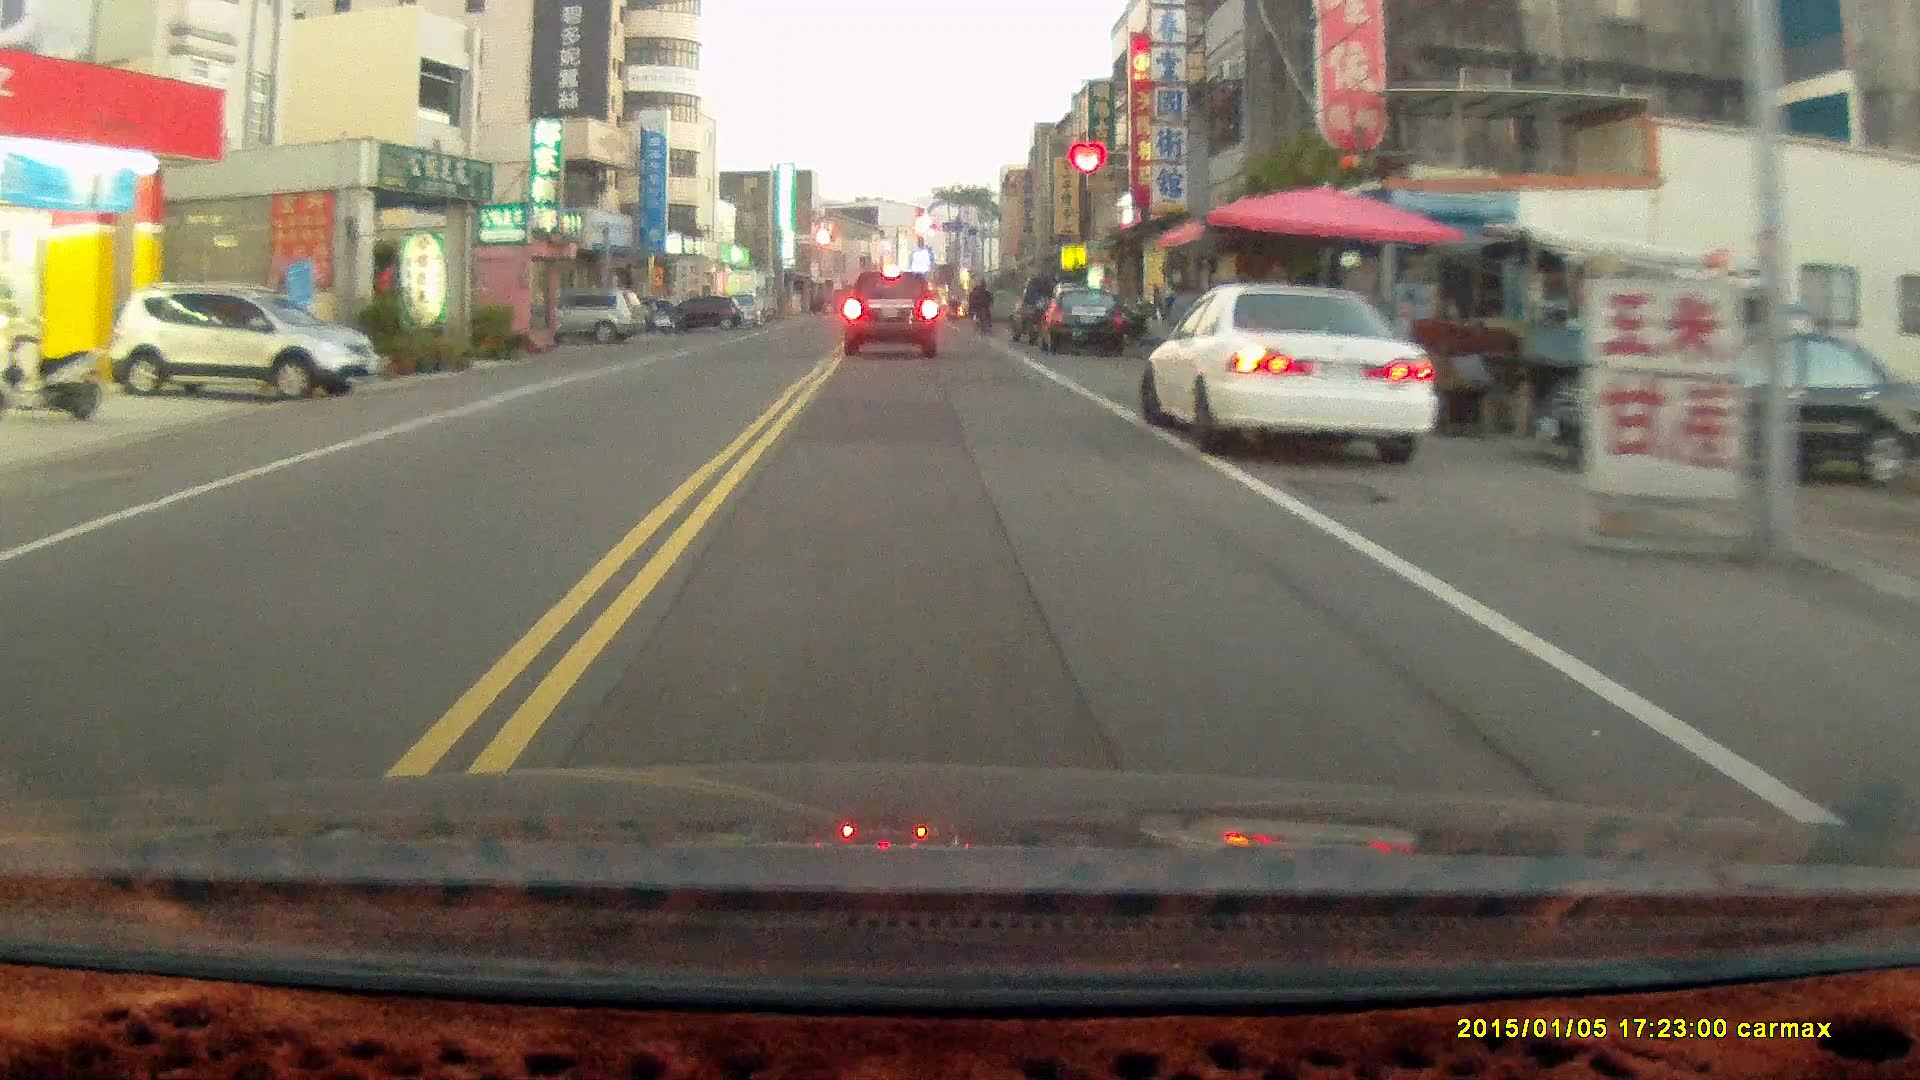rider: (968, 277, 994, 333)
vehicle: (1534, 324, 1920, 487), (1144, 282, 1437, 466), (117, 284, 372, 405), (842, 264, 941, 360), (1037, 287, 1133, 355), (551, 289, 649, 343)
